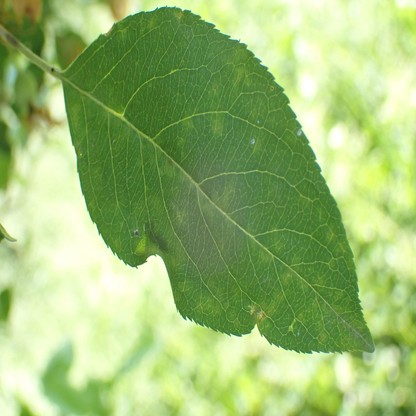powdery_mildew: (343, 319, 372, 349)
scab: (200, 187, 234, 224), (268, 269, 293, 312), (311, 303, 332, 342), (312, 275, 343, 300), (248, 230, 271, 262), (146, 222, 169, 251), (68, 104, 80, 135), (234, 67, 251, 88), (160, 157, 176, 176), (211, 117, 225, 135), (139, 20, 154, 35), (297, 275, 309, 292), (116, 24, 126, 42), (254, 135, 262, 155), (182, 119, 196, 130), (326, 227, 335, 244), (173, 9, 183, 21), (297, 314, 307, 325), (326, 259, 335, 269)
